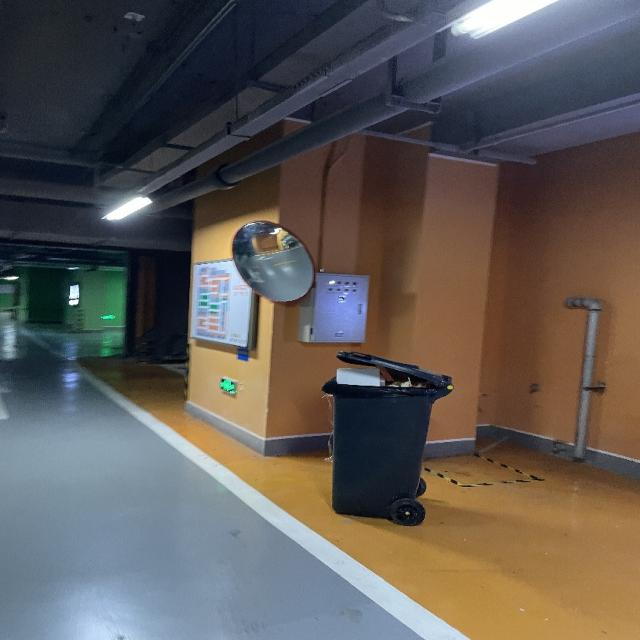overflow: (320, 350, 451, 518)
